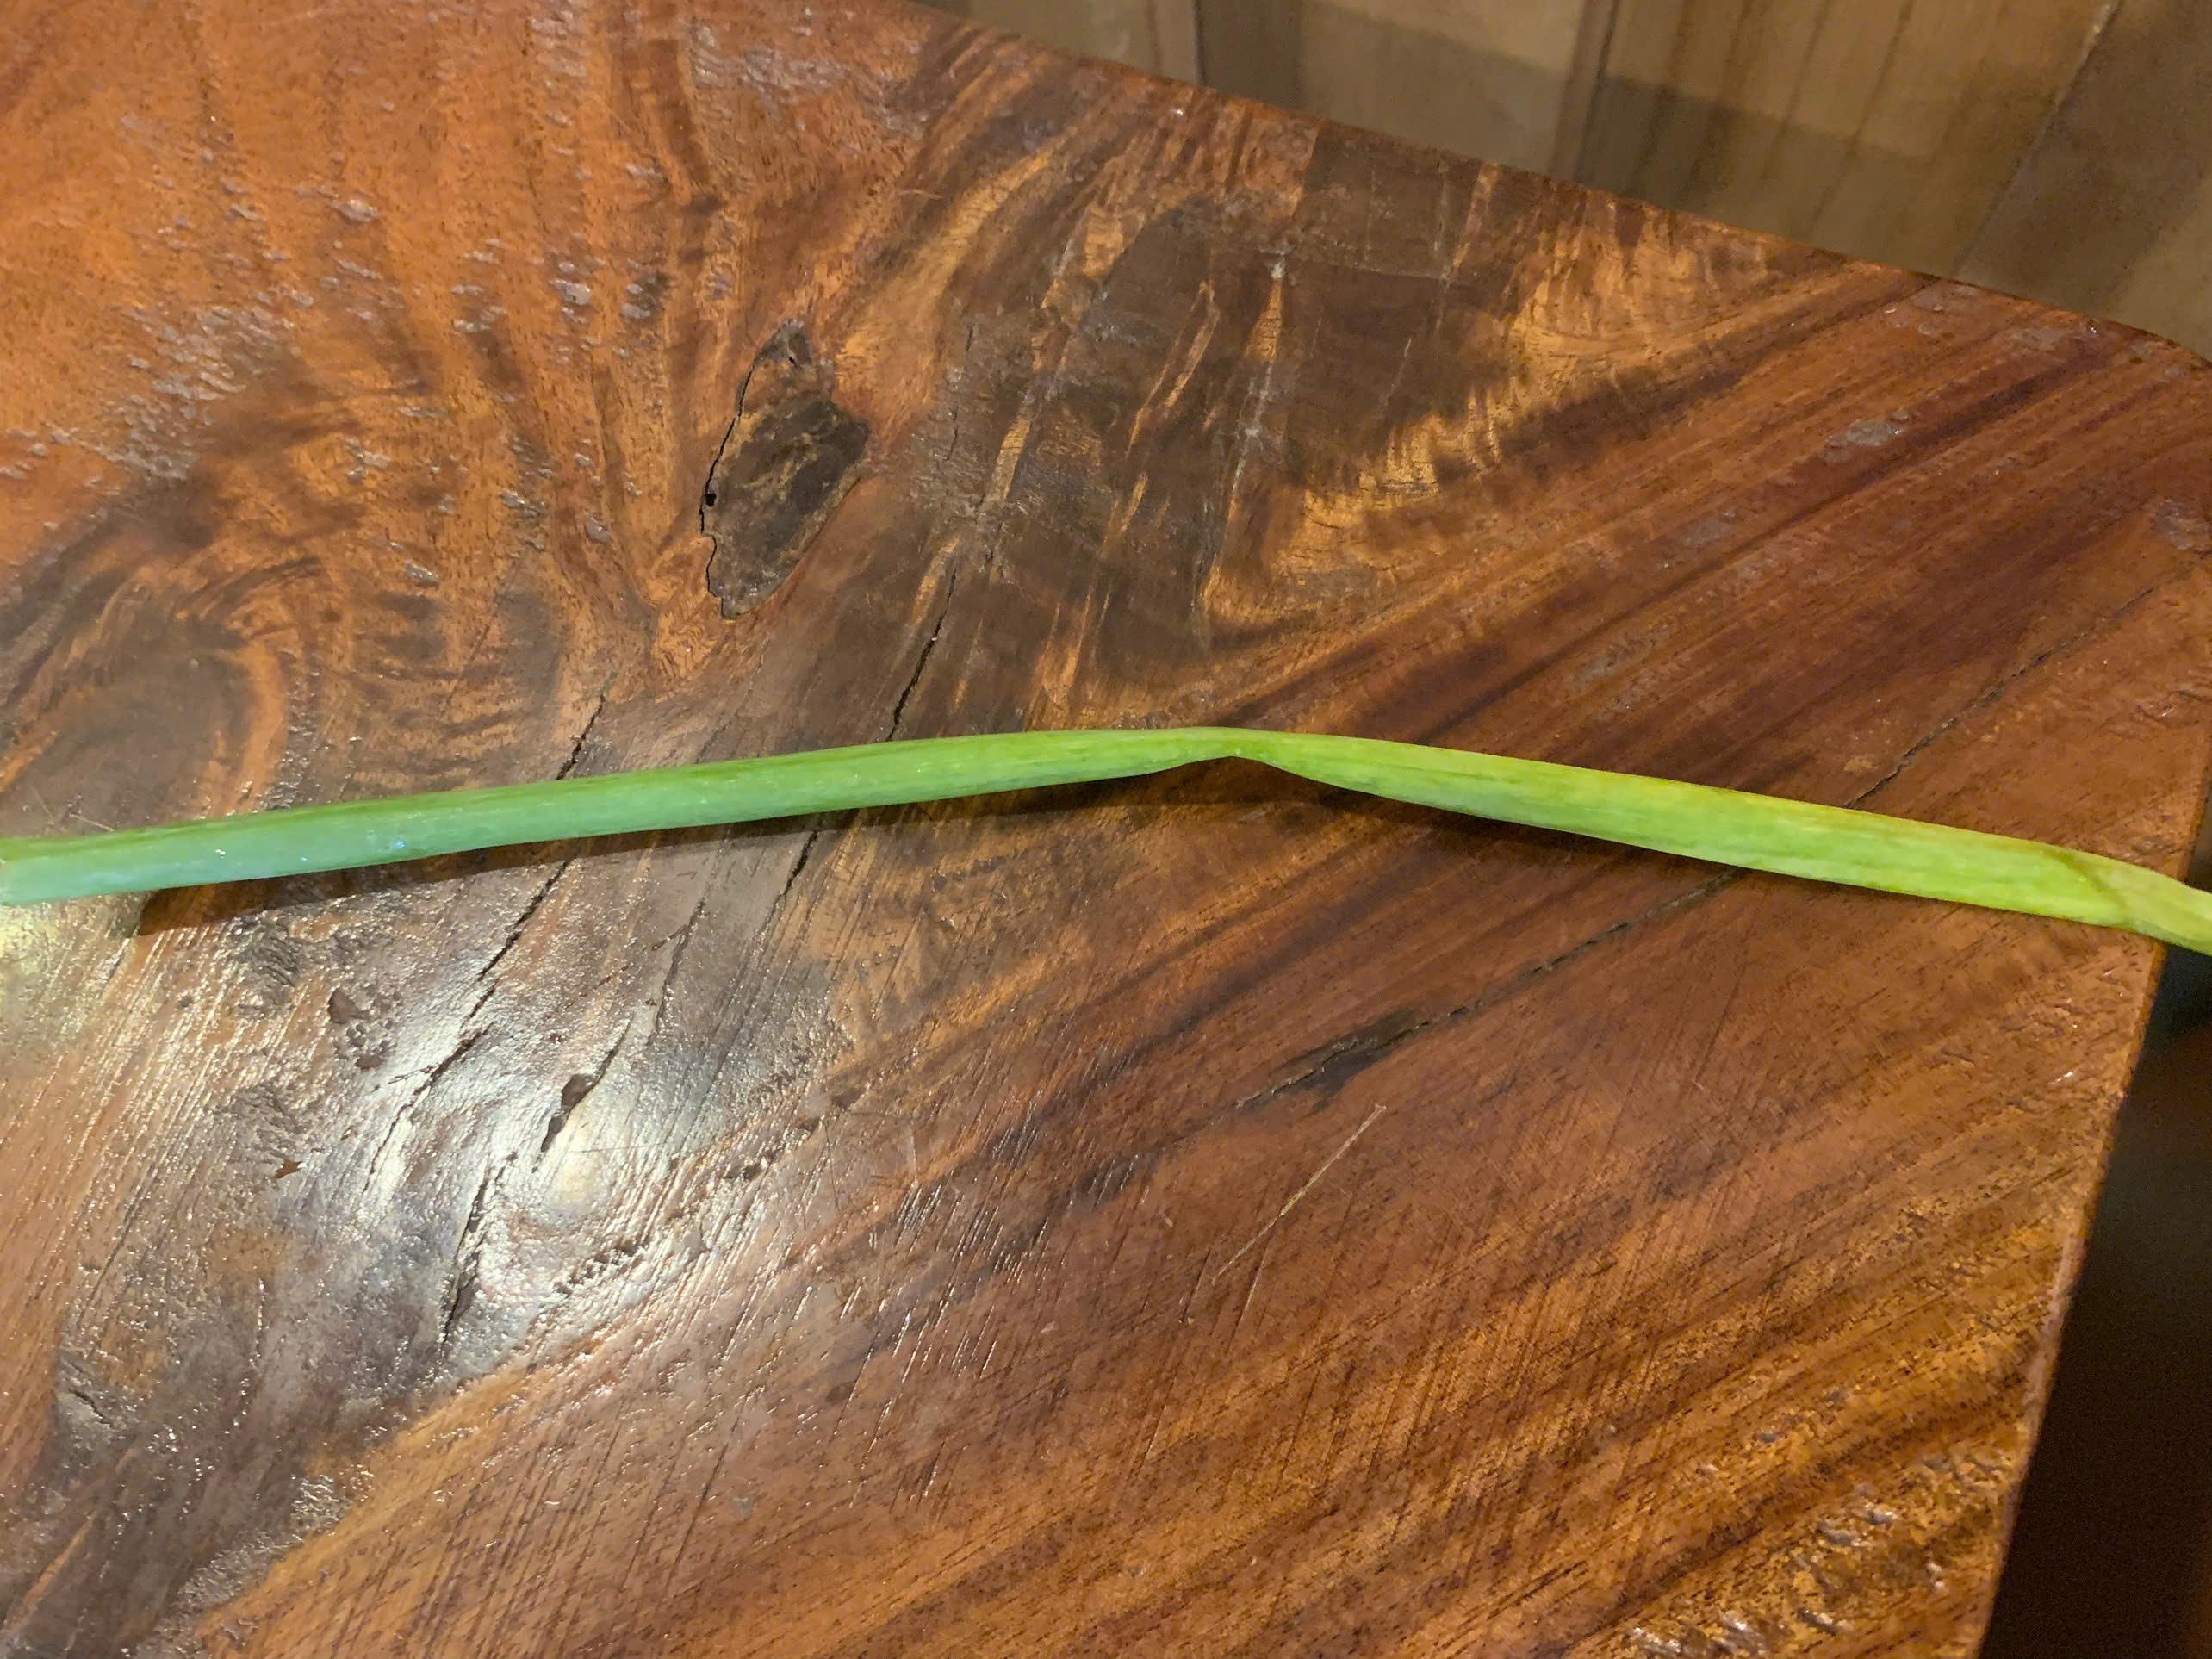Huu co: (10, 723, 2212, 957)
